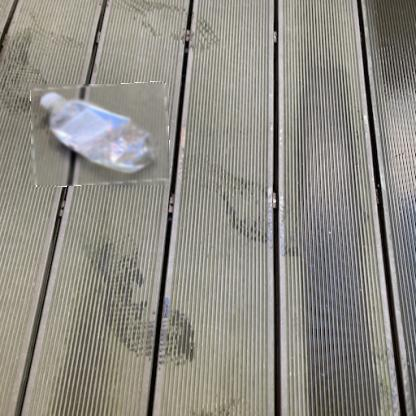plastic-bottles: (32, 84, 170, 186)
